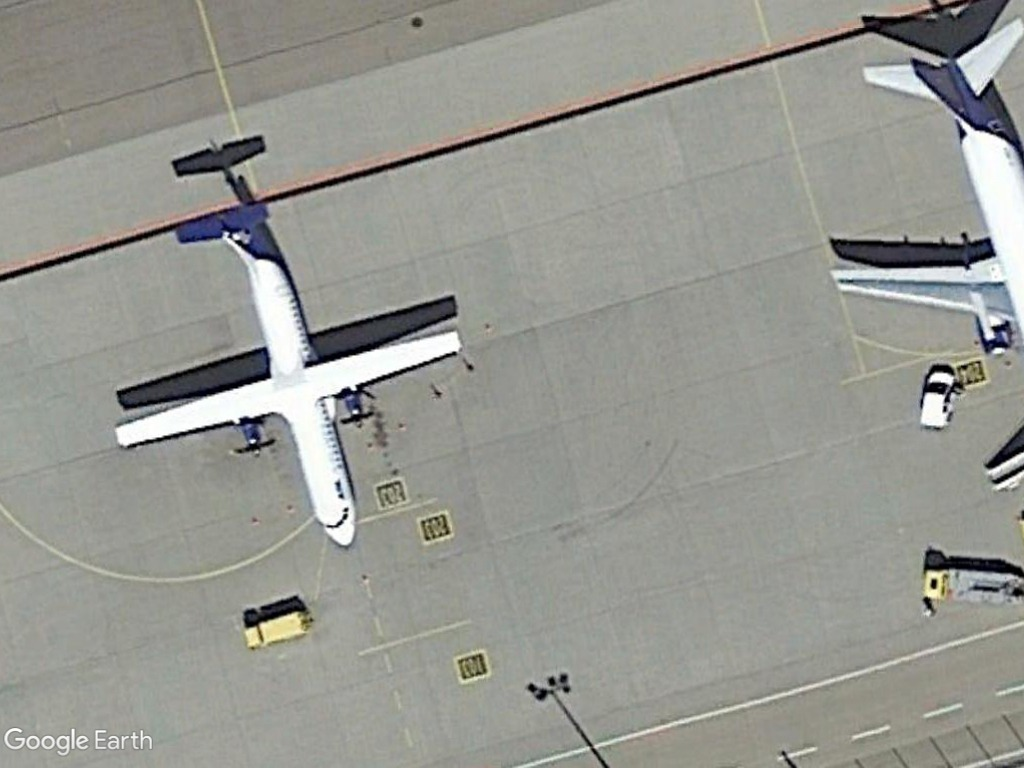propeller: (96, 201, 473, 552)
truck: (239, 608, 313, 652)
